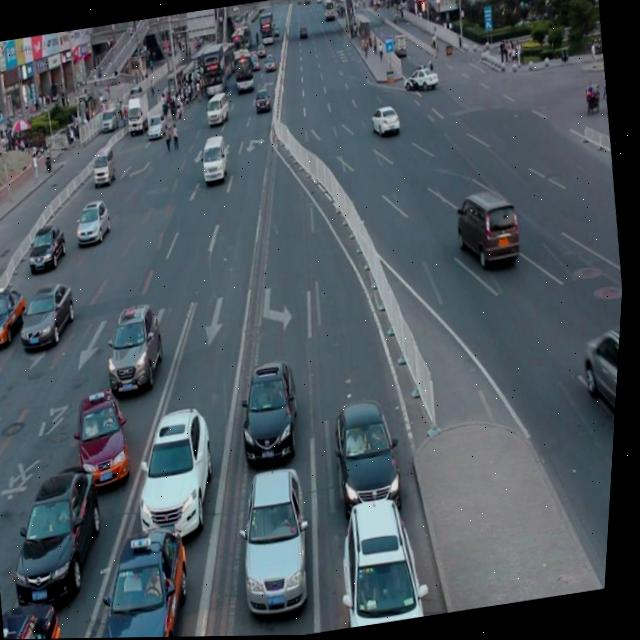car: (7, 460, 121, 609), (130, 399, 231, 543), (235, 461, 327, 619), (336, 489, 439, 630), (91, 521, 209, 639), (332, 390, 415, 516), (236, 354, 313, 467), (102, 296, 175, 394), (450, 185, 528, 275), (74, 385, 142, 488), (579, 327, 624, 437), (19, 279, 84, 352), (7, 594, 75, 640), (0, 282, 36, 351), (27, 222, 73, 273), (75, 198, 117, 246)
truck: (199, 136, 232, 184), (92, 145, 120, 185)
